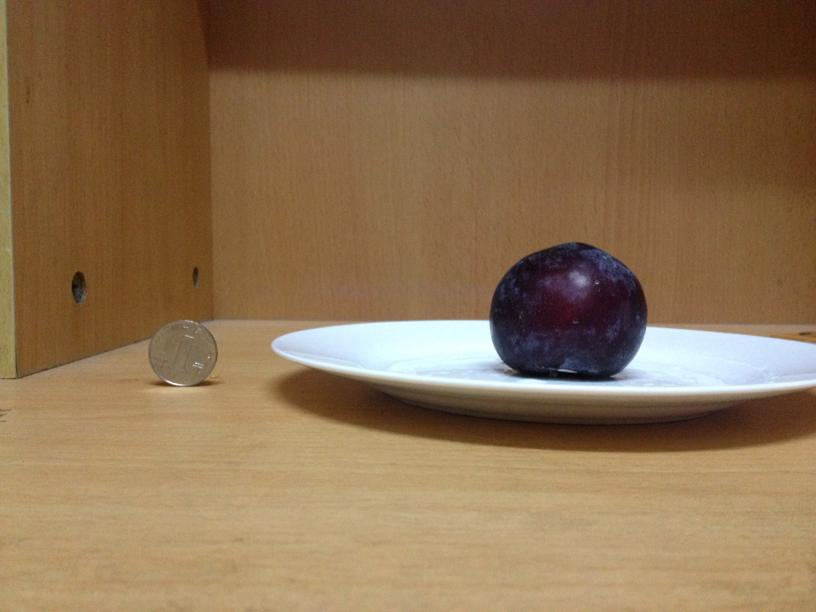coin: (145, 318, 220, 387)
plum: (488, 242, 645, 378)
